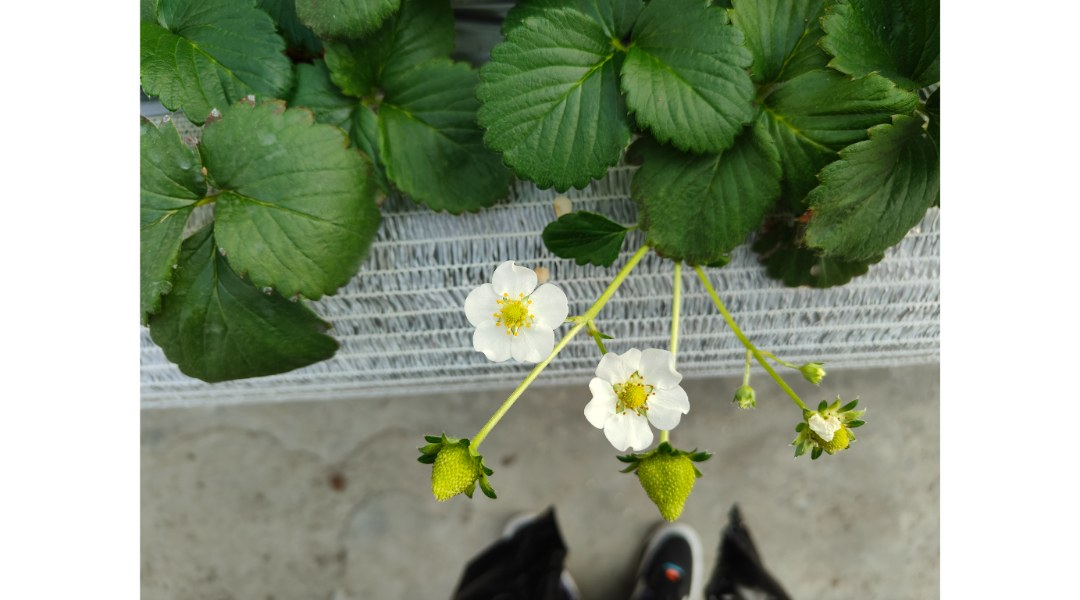berry: (629, 434, 711, 553), (413, 421, 515, 511), (790, 397, 870, 465), (795, 353, 842, 391), (721, 383, 757, 418)
flower: (457, 258, 571, 378), (581, 344, 698, 460)
strain: (474, 327, 576, 453), (702, 256, 754, 353), (591, 242, 642, 319), (668, 256, 693, 384), (758, 348, 808, 409)
